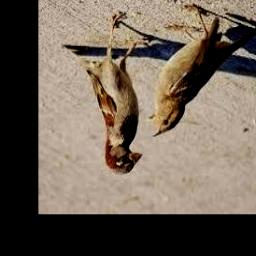Sparrow: (149, 4, 256, 138), (65, 12, 150, 175)
